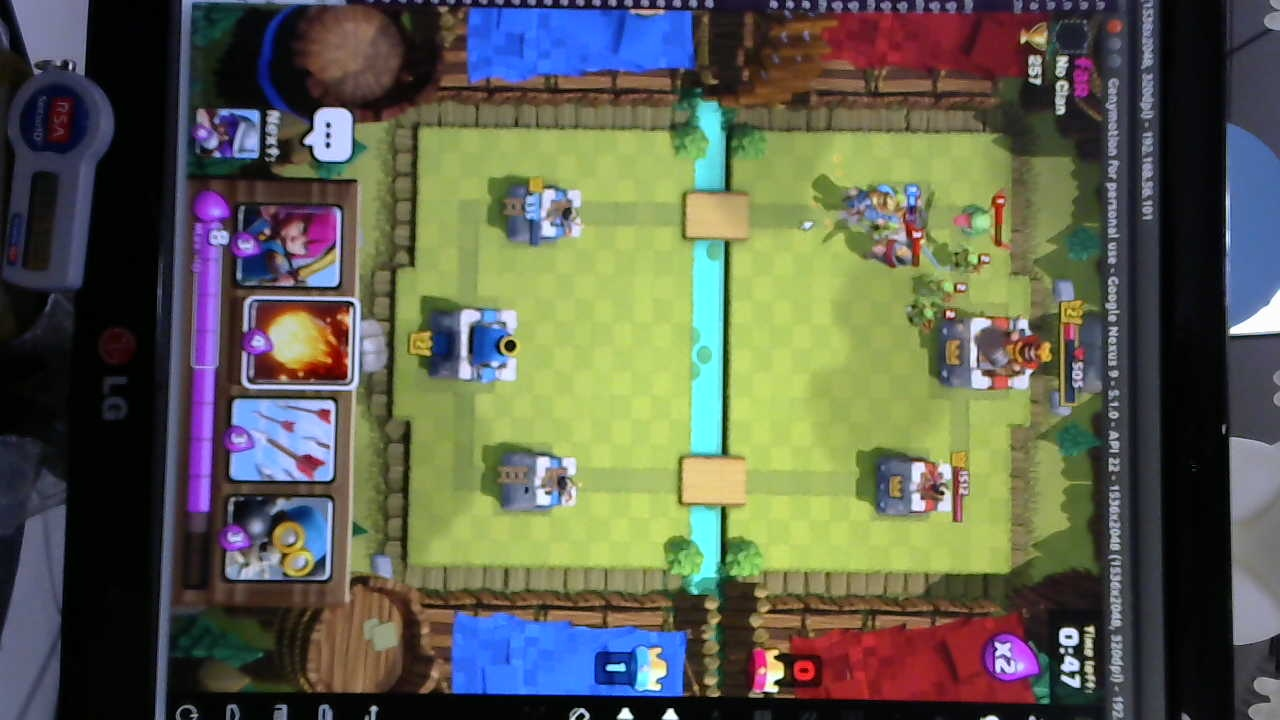arena: (497, 446, 584, 516), (502, 178, 584, 244)
dragon: (951, 191, 998, 246)
earena: (880, 458, 953, 522)
eking: (941, 312, 1044, 392)
king: (430, 302, 523, 386)
knight: (867, 232, 924, 269)
prince: (848, 183, 904, 230)
speargoblins: (905, 246, 986, 329)
